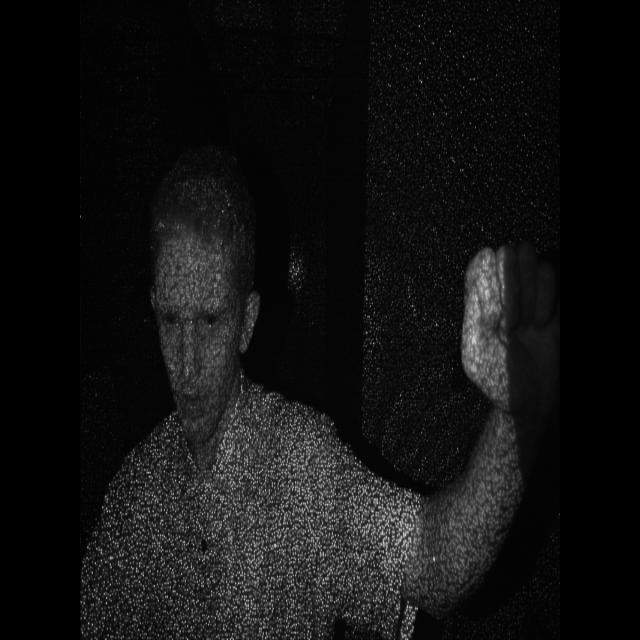M: (450, 217, 567, 420)
